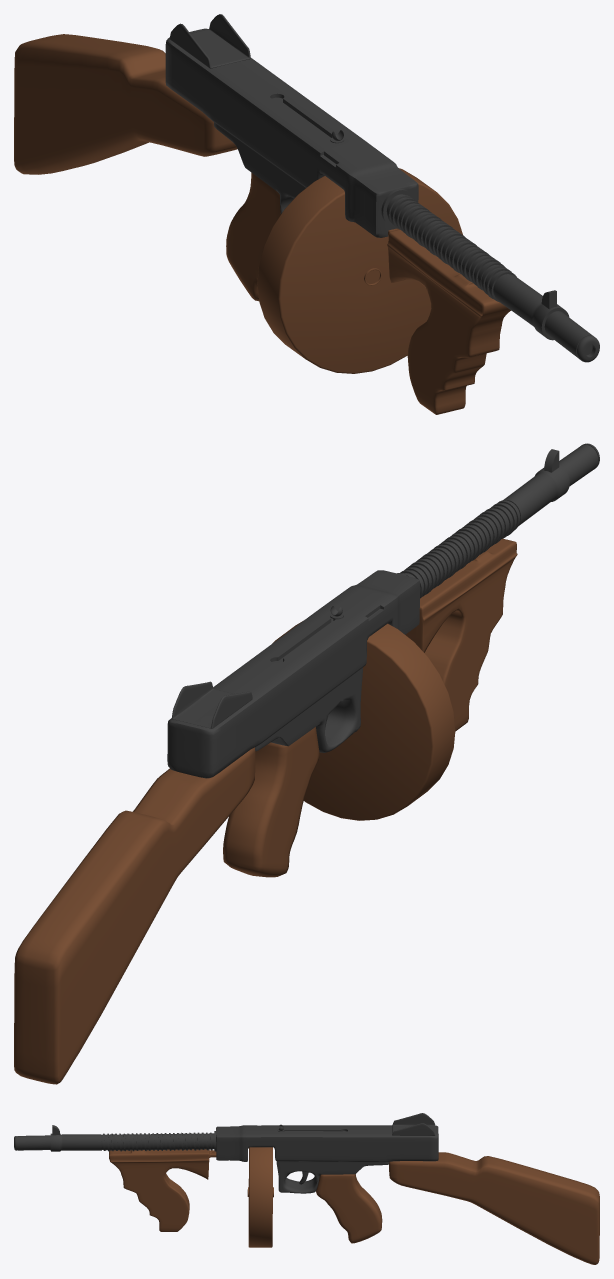
The model's file is Tommy_Gun.fbx.
3 renders of one model, top to bottom at view 1: azimuth 30°, elevation 25°; view 2: azimuth 150°, elevation 25°; view 3: azimuth 270°, elevation 25°, orthographic. The views are drawn at different scales.
Parts seen in each view (by area): view 1: Tommy_low.001, Tommy_low.011; view 2: Tommy_low.001, Tommy_low.011; view 3: Tommy_low.001, Tommy_low.011.
Part boxes in pixels (x1,y1,x2,y2): Tommy_low.001: [14, 34, 510, 414]; Tommy_low.011: [165, 14, 599, 362]; Tommy_low.001: [14, 538, 517, 1084]; Tommy_low.011: [167, 443, 599, 778]; Tommy_low.001: [109, 1147, 599, 1264]; Tommy_low.011: [14, 1113, 438, 1193].
Bounding box in the file's own units: 37.52 × 51.95 × 194.
